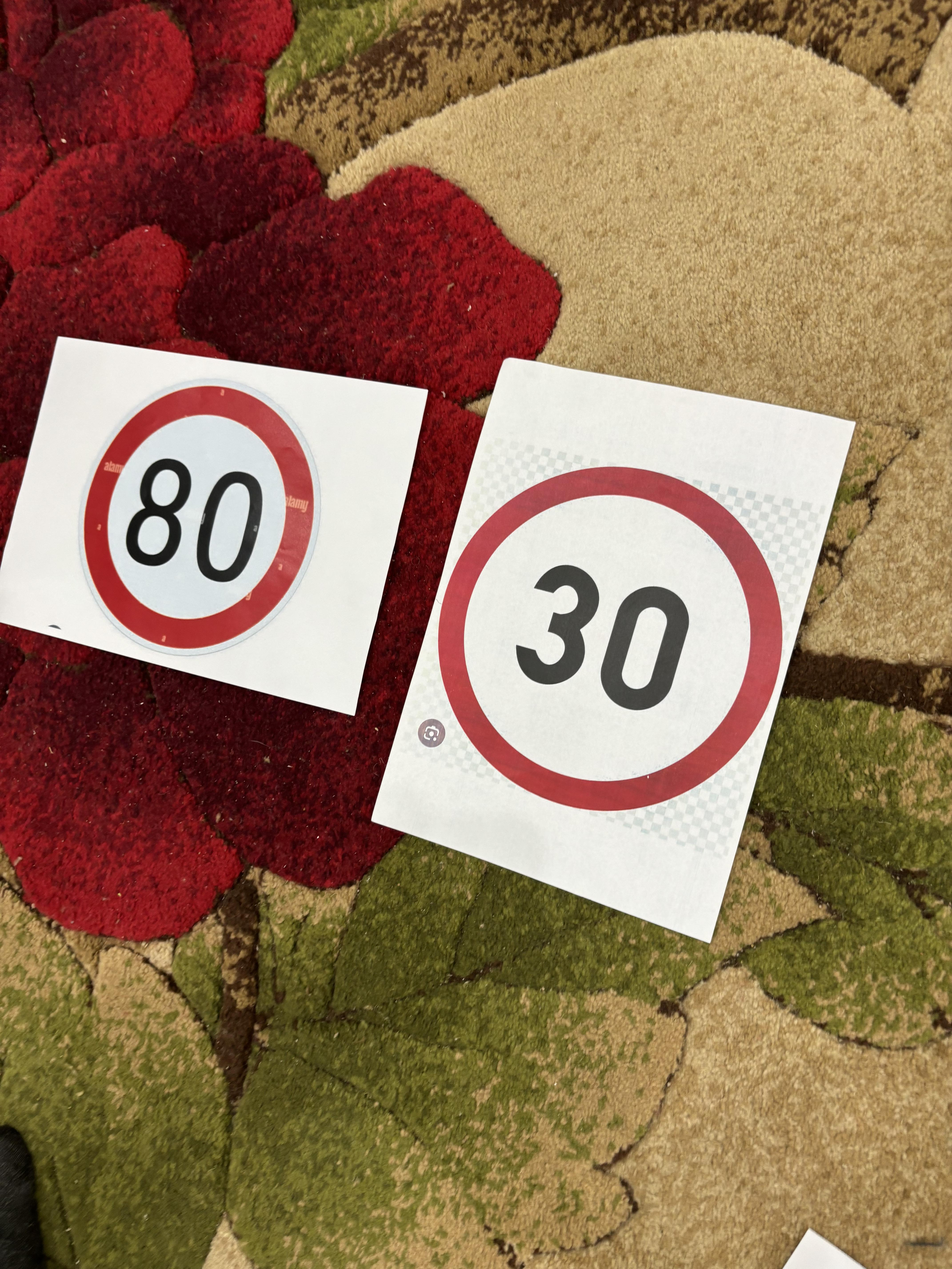30-speed: (427, 458, 800, 813)
80-Speed: (72, 380, 340, 657)
